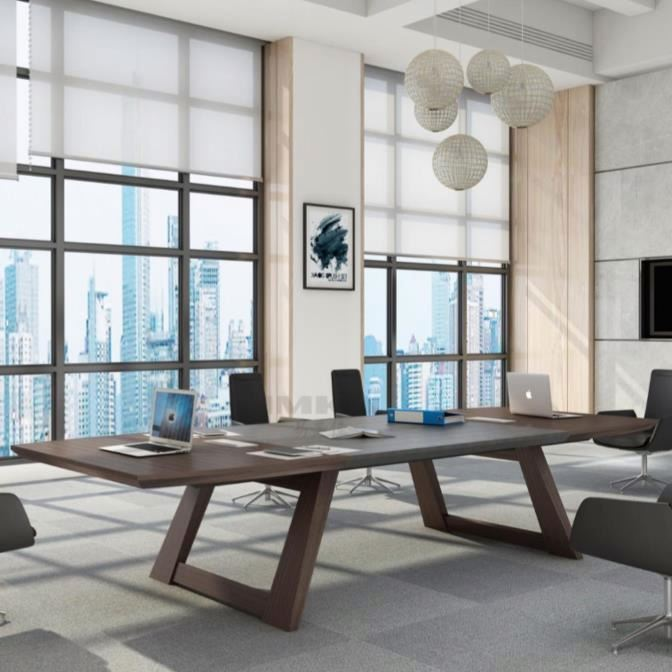conference_table: (12, 404, 659, 633)
